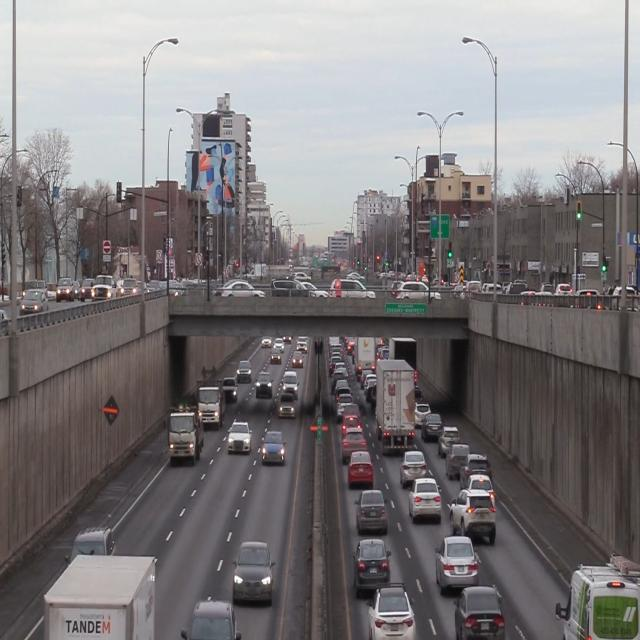Car: (375, 359, 418, 453), (231, 540, 278, 608), (453, 584, 506, 640), (367, 584, 419, 640), (434, 536, 481, 592), (164, 405, 203, 469), (451, 491, 497, 544), (352, 537, 392, 593), (196, 370, 228, 429), (408, 479, 442, 525), (356, 490, 389, 534), (349, 450, 376, 490), (461, 456, 494, 488), (261, 428, 288, 466), (399, 450, 426, 488), (226, 420, 252, 457), (446, 443, 470, 478), (438, 424, 462, 458), (278, 392, 295, 420)
